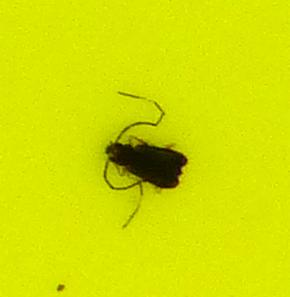Coleoptera: (100, 100, 190, 197)
